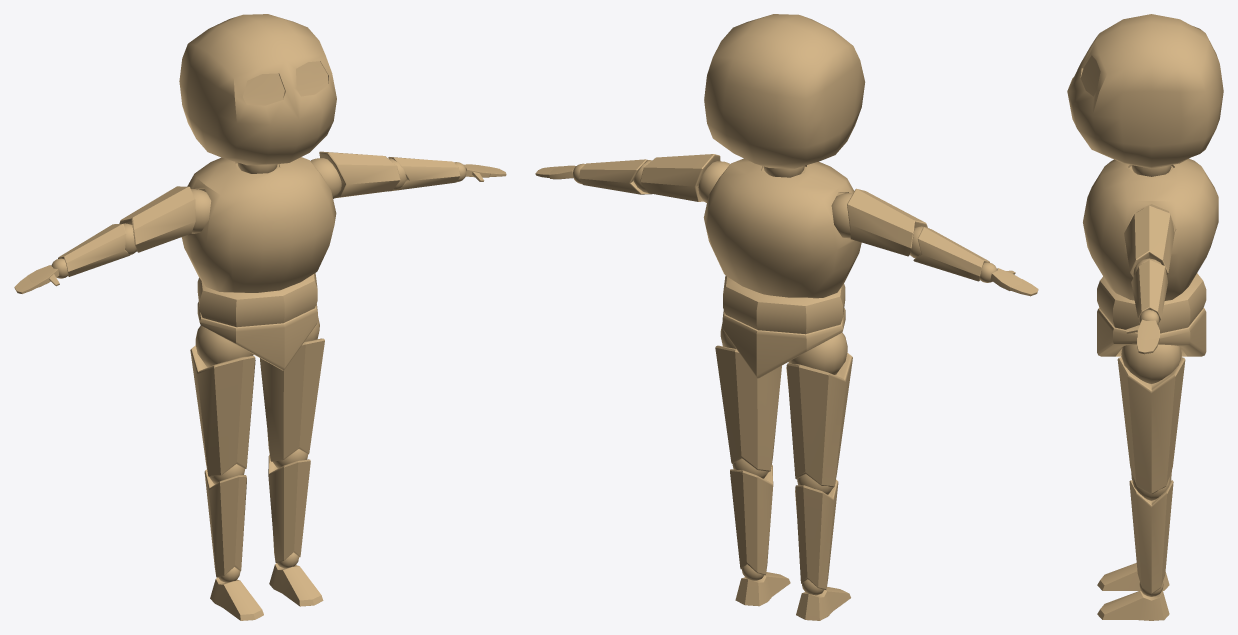
File: perso_base.fbx
3 views of the same model, side by side, from view 1: azimuth 30°, elevation 25°; view 2: azimuth 150°, elevation 25°; view 3: azimuth 270°, elevation 25° (orthographic). The views are drawn at different scales.
Parts seen in each view (by area): view 1: head_GEO, chest_GEO, leg_R_GEO, tibia_R_GEO, bras_R_GEO, guts_GEO, avan_bras_R_GEO, basin_GEO, feet_R_GEO, JNT_GEO, JNT_GEO6; view 2: head_GEO, chest_GEO, leg_R_GEO, tibia_R_GEO, bras_R_GEO, guts_GEO, avan_bras_R_GEO, basin_GEO, feet_R_GEO, JNT_GEO, JNT_GEO6, pPlane1; view 3: head_GEO, chest_GEO, leg_R_GEO, tibia_R_GEO, guts_GEO, feet_R_GEO, bras_R_GEO, basin_GEO, JNT_GEO, avan_bras_R_GEO, pPlane1, JNT (+2 smaller).
Part boxes in pixels (x1,y1,x2,y2): head_GEO: [179, 14, 336, 165]; chest_GEO: [181, 157, 336, 292]; leg_R_GEO: [190, 338, 324, 476]; tibia_R_GEO: [204, 455, 310, 577]; bras_R_GEO: [119, 151, 400, 252]; guts_GEO: [197, 273, 317, 327]; avan_bras_R_GEO: [58, 157, 460, 276]; basin_GEO: [197, 301, 317, 370]; feet_R_GEO: [210, 563, 323, 620]; JNT_GEO: [195, 316, 319, 367]; JNT_GEO6: [191, 158, 341, 233]; head_GEO: [704, 14, 865, 168]; chest_GEO: [703, 158, 861, 298]; leg_R_GEO: [715, 345, 852, 487]; tibia_R_GEO: [730, 465, 838, 589]; bras_R_GEO: [640, 154, 927, 256]; guts_GEO: [723, 276, 845, 334]; avan_bras_R_GEO: [579, 159, 989, 281]; basin_GEO: [722, 308, 845, 378]; feet_R_GEO: [735, 572, 850, 620]; JNT_GEO: [720, 322, 847, 374]; JNT_GEO6: [698, 161, 852, 238]; pPlane1: [549, 165, 1021, 290]; head_GEO: [1067, 14, 1223, 168]; chest_GEO: [1083, 159, 1218, 300]; leg_R_GEO: [1117, 356, 1185, 494]; tibia_R_GEO: [1129, 470, 1173, 593]; guts_GEO: [1097, 273, 1206, 333]; feet_R_GEO: [1097, 563, 1169, 620]; bras_R_GEO: [1124, 205, 1174, 277]; basin_GEO: [1097, 307, 1206, 356]; JNT_GEO: [1121, 344, 1181, 383]; avan_bras_R_GEO: [1131, 260, 1167, 322]; pPlane1: [1137, 319, 1159, 340]; JNT: [1131, 165, 1171, 176].
Size of the model in its own units: 32.8 by 36.69 by 9.01.
